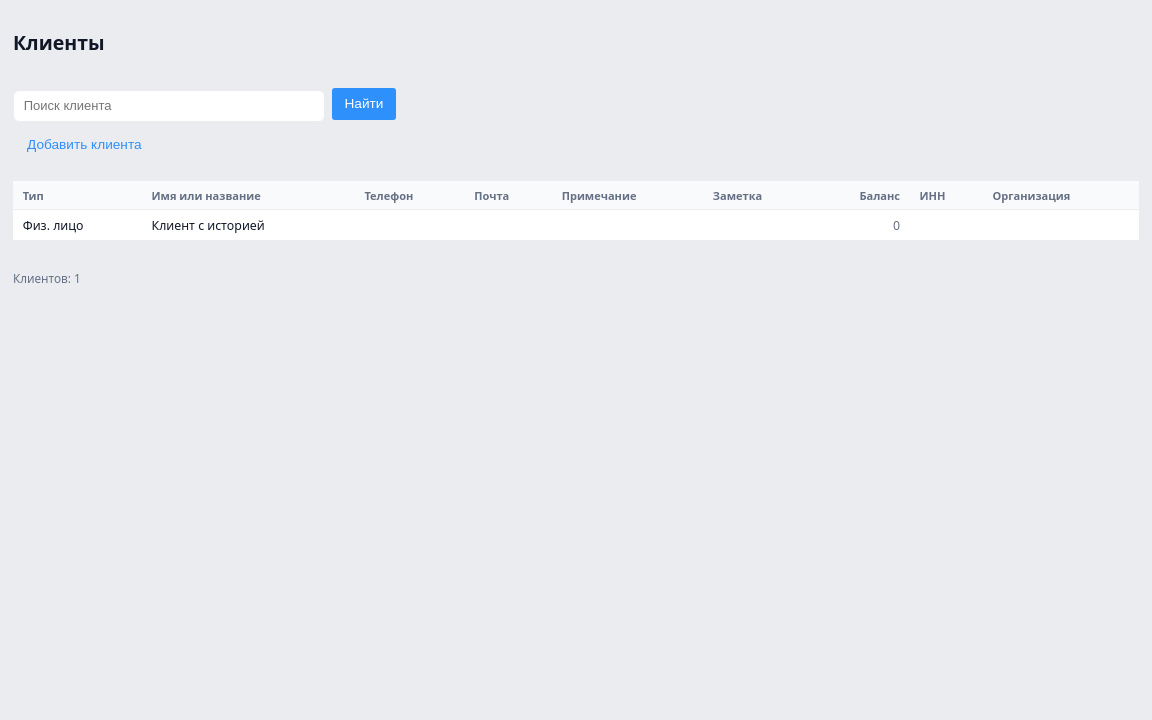
Scenario: раздел «Клиенты» › движения по счёту показывают все записи, а не восемь последних
Click the text "Клиент с историей": click(248, 225) [142, 210, 355, 241]
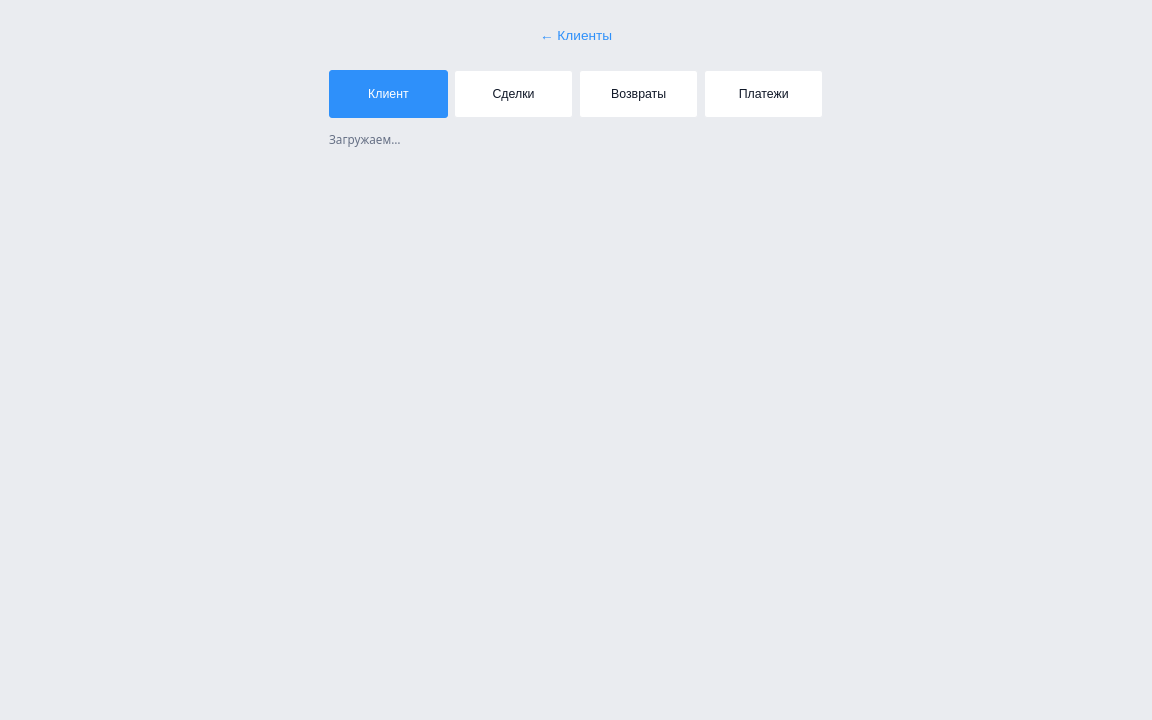
Click the button "Платежи": click(764, 94) [704, 70, 823, 118]
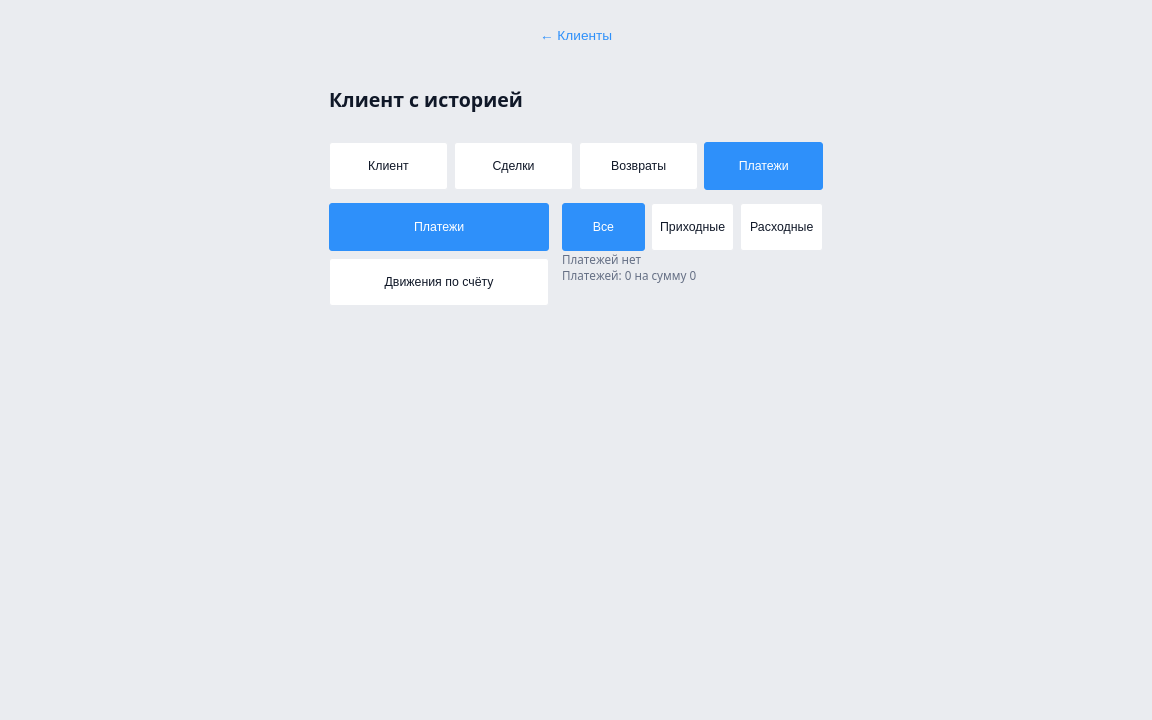
Click the button "Движения по счёту": click(439, 282) [329, 258, 549, 306]
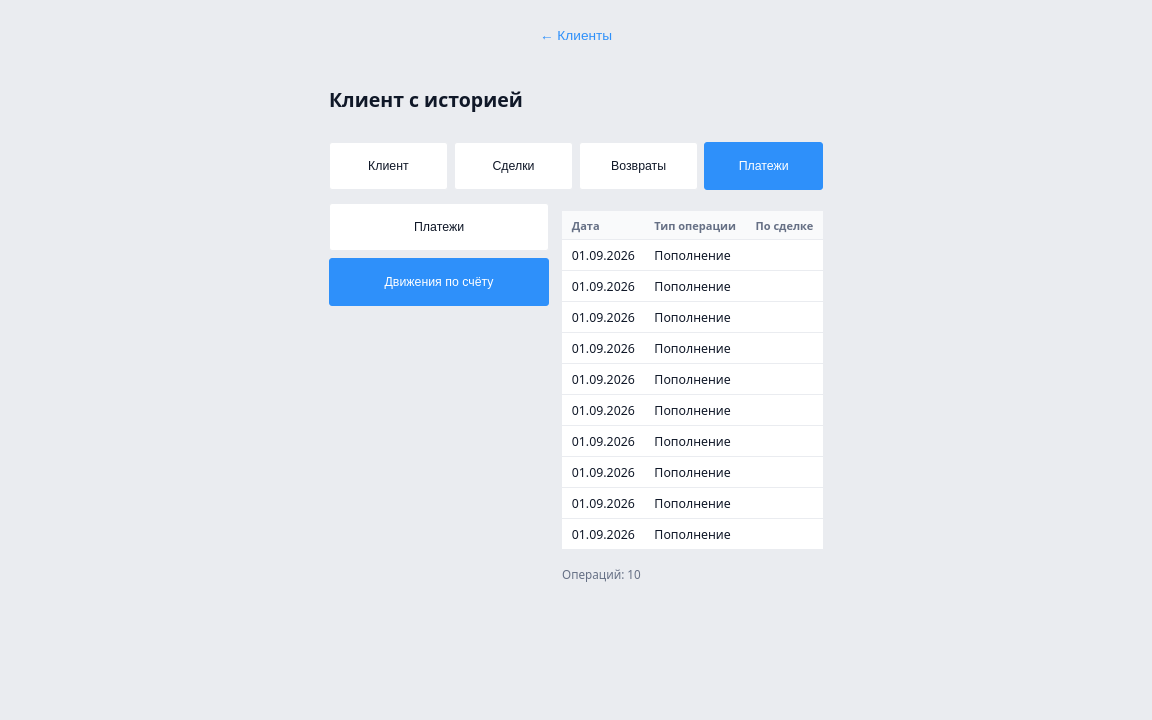
Now the text "Операций: 10" is shown, box [562, 566, 641, 582]
Now the text "Пополнение" is shown 10 times
